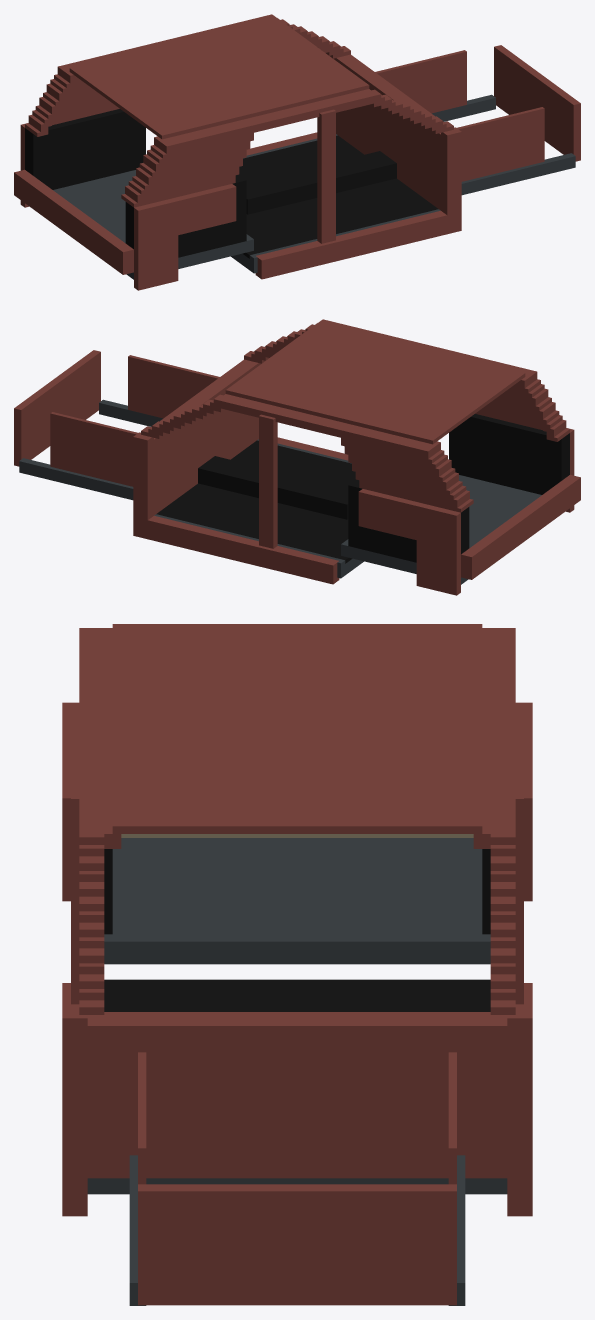
Rendered from hatchback_shell.glb.
3 views of the same model, one above another, from view 1: azimuth 30°, elevation 25°; view 2: azimuth 150°, elevation 25°; view 3: azimuth 270°, elevation 25° (orthographic). The views are drawn at different scales.
Visible parts, largest first — view 1: body:compound; view 2: body:compound; view 3: body:compound.
Boxes of the visible parts, bbox=[...] form: body:compound: bbox=[14, 14, 580, 290]; body:compound: bbox=[14, 319, 580, 595]; body:compound: bbox=[62, 624, 532, 1305].
Bounding box in the file's own units: 4.06 × 1.28 × 1.75.
